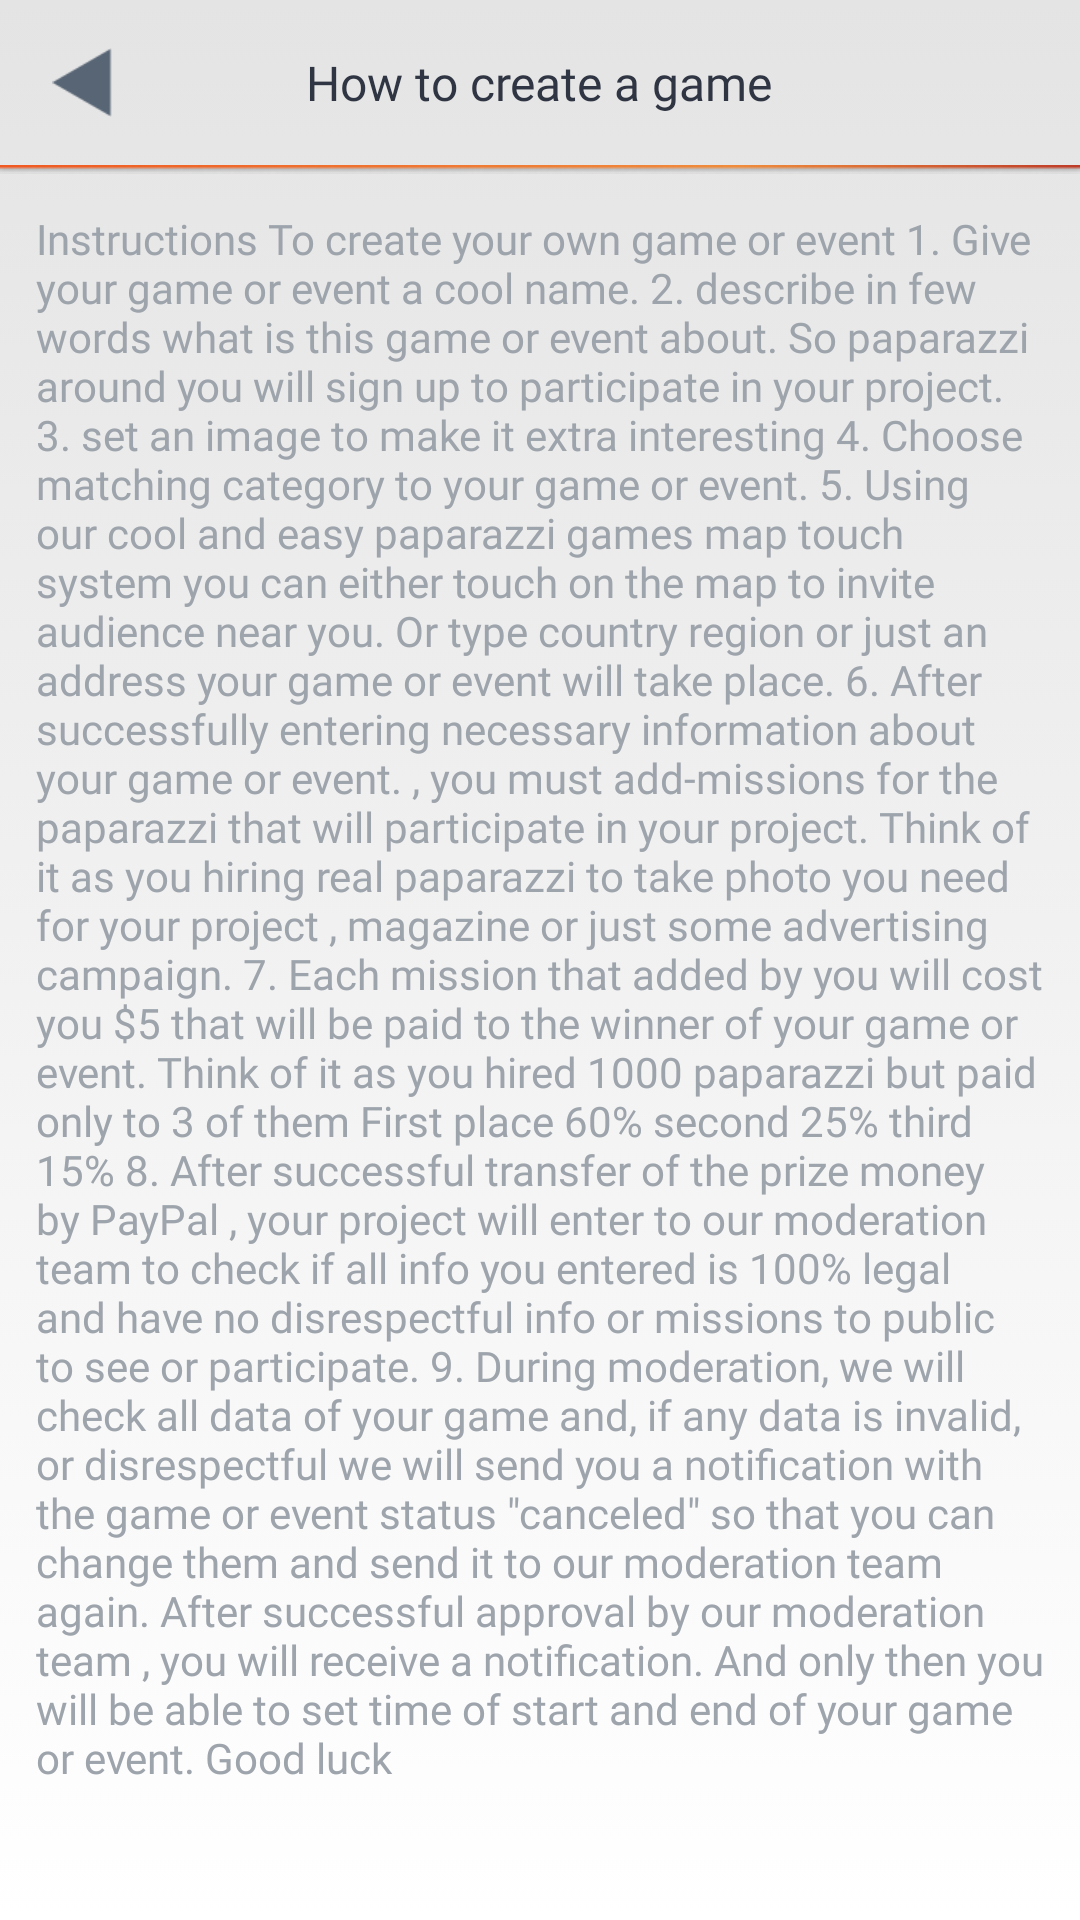

Where to tap for icons on this 1080px×1920px app screen, as (x=x, y=y):
setting back: (x=81, y=82)
